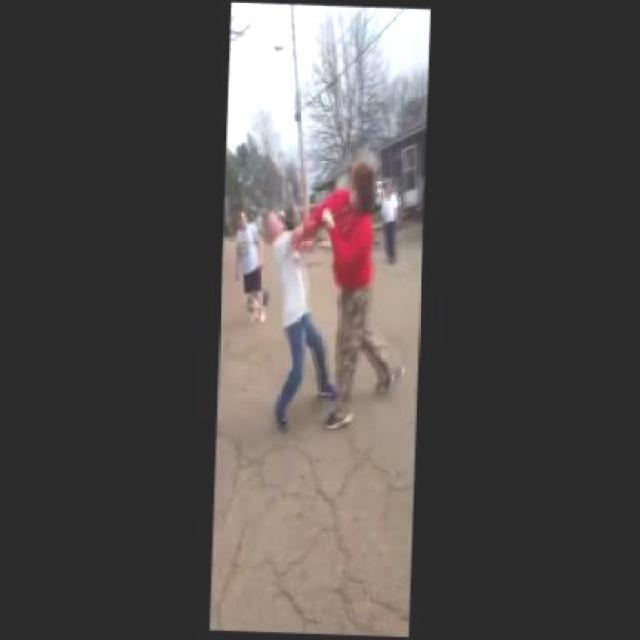fight: (262, 157, 378, 366)
non-fight: (234, 211, 266, 311), (382, 176, 400, 244)
